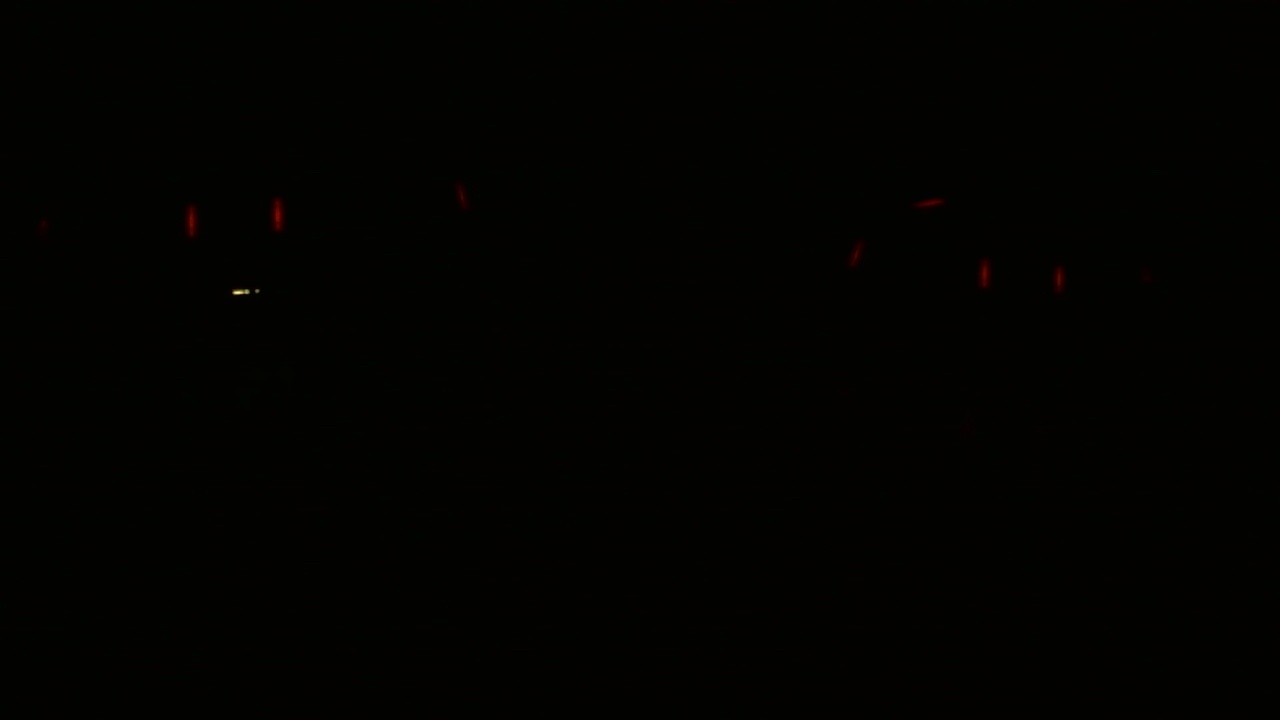pair1: (179, 193, 288, 236), (977, 258, 1069, 299)
